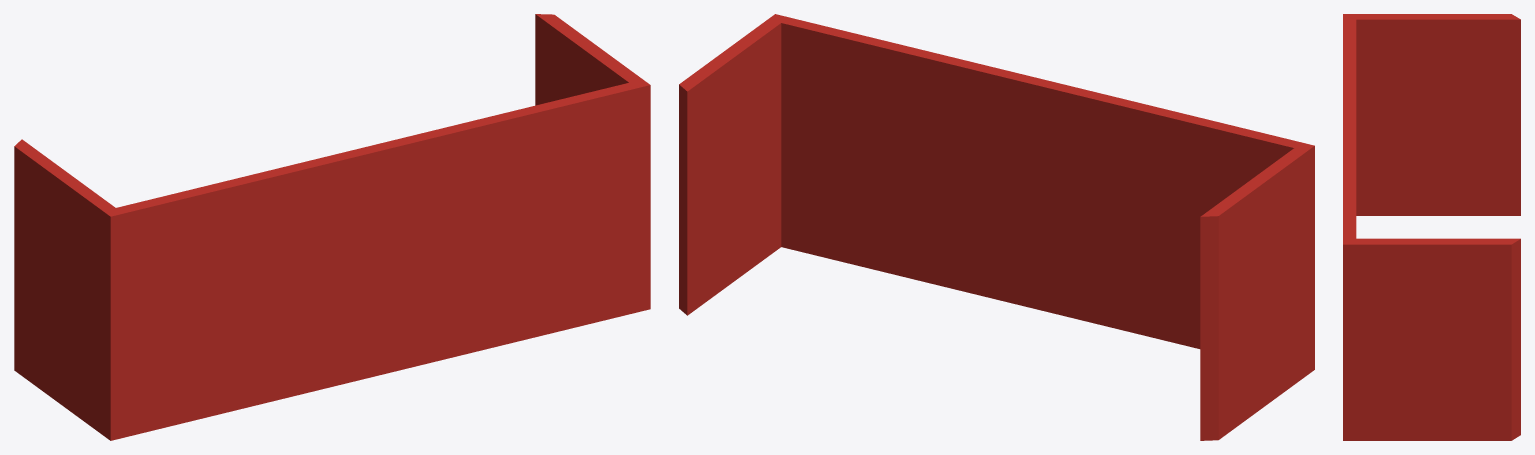
Rendered from Room Hobbies Walls.gltf.
The picture shows the model from 3 angles, left to right: view 1: azimuth 30°, elevation 25°; view 2: azimuth 150°, elevation 25°; view 3: azimuth 270°, elevation 25°; orthographic projection. The views are drawn at different scales.
Visible parts, largest first — view 1: Hobbies; view 2: Hobbies; view 3: Hobbies.
Part boxes in pixels (x1,y1,x2,y2): Hobbies: (14, 14, 650, 440); Hobbies: (679, 14, 1314, 440); Hobbies: (1343, 14, 1520, 440).
Bounding box in the file's own units: 0.7784 × 0.3089 × 0.2538.
1 material, 1 textured.
